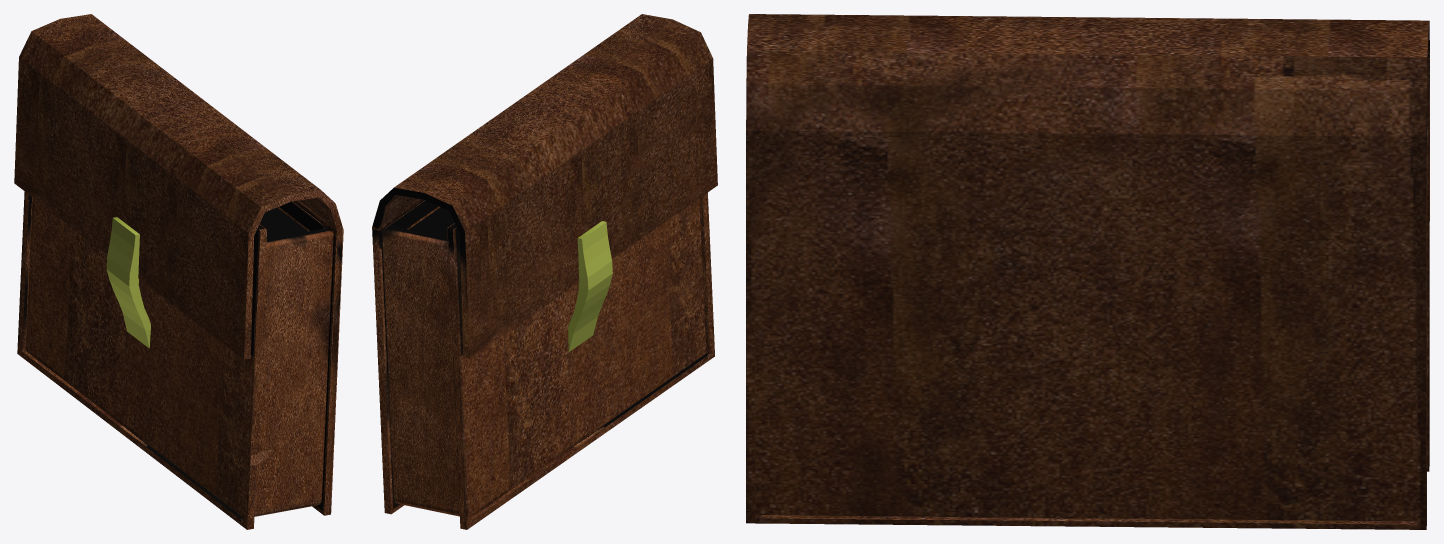
Rendered from bag.fbx.
3 renders of one model, left to right at view 1: azimuth 30°, elevation 25°; view 2: azimuth 150°, elevation 25°; view 3: azimuth 270°, elevation 25°, orthographic. The views are drawn at different scales.
Visible parts, largest first — view 1: Sachoche, Plane; view 2: Sachoche, Plane; view 3: Sachoche.
Boxes of the visible parts, left/top/right/bottom form: Sachoche: left=14, top=14, right=343, bottom=529; Plane: left=106, top=217, right=150, bottom=348; Sachoche: left=372, top=14, right=717, bottom=529; Plane: left=568, top=221, right=612, bottom=351; Sachoche: left=746, top=14, right=1429, bottom=529.
Bounding box in the file's own units: 0.0991 × 0.2778 × 0.3662.
2 materials, 2 textured.
